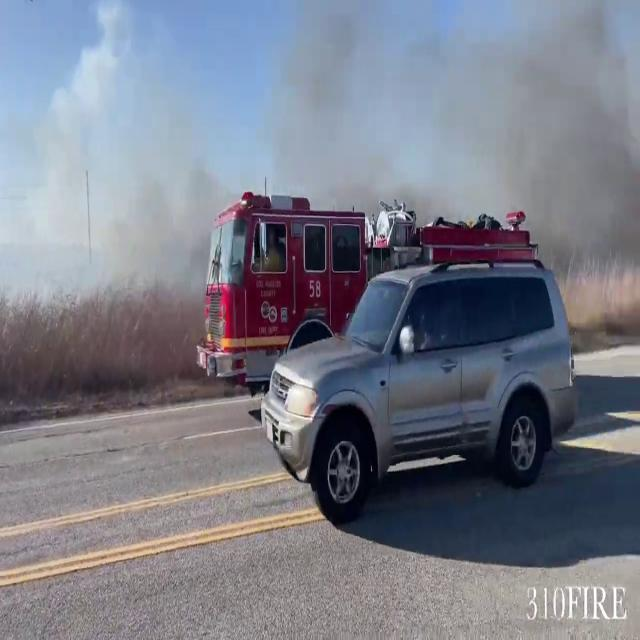Smoke: (280, 0, 640, 201)
